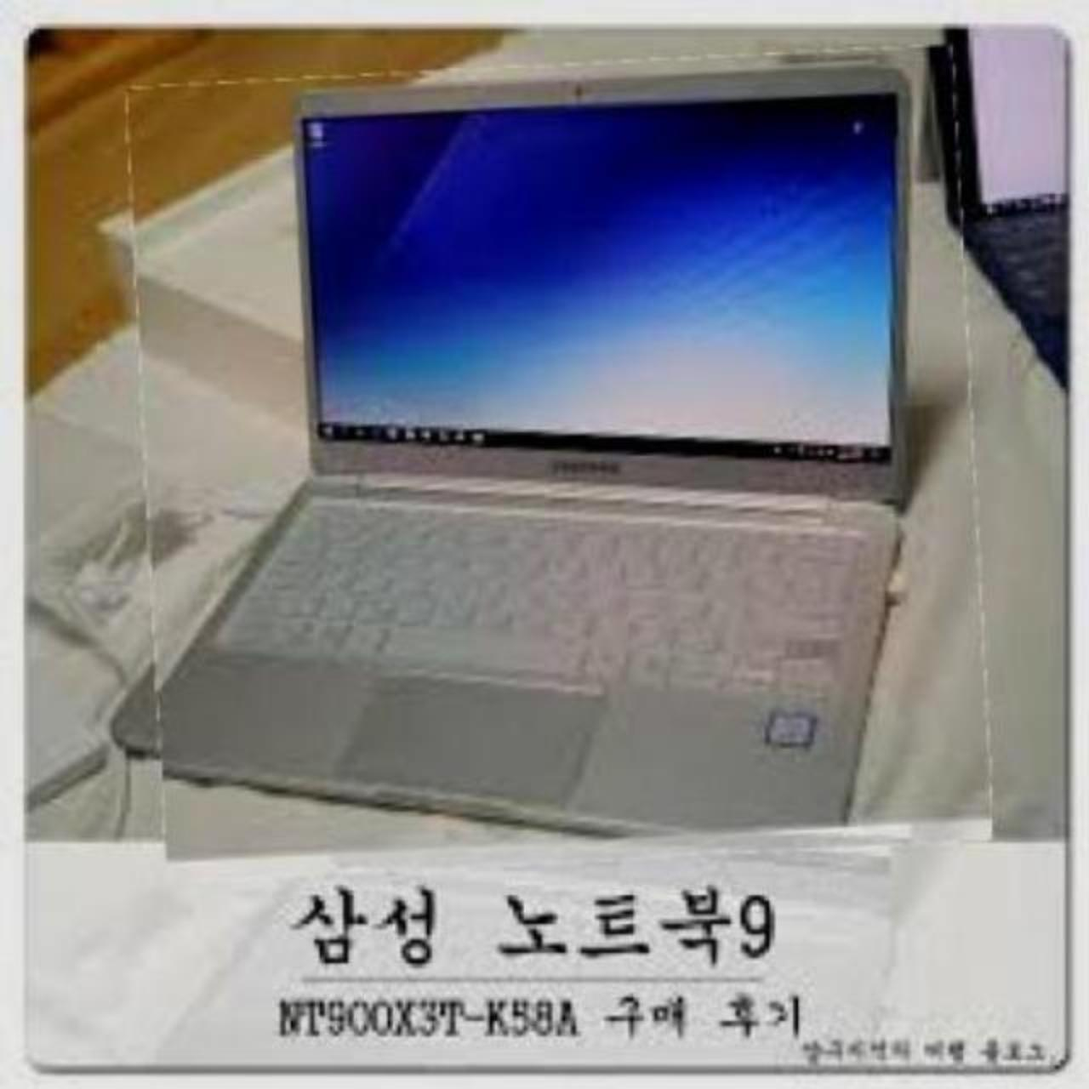laptop: (134, 56, 982, 873)
